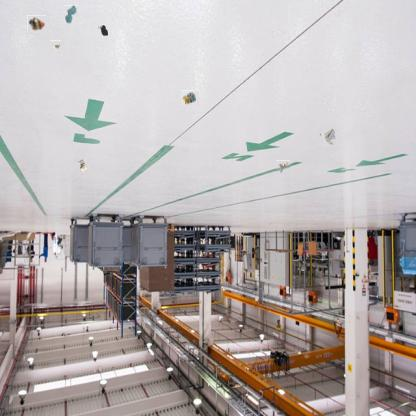dirty: (27, 14, 46, 33), (319, 128, 337, 146), (181, 90, 199, 105), (74, 157, 90, 173), (276, 160, 290, 173), (49, 40, 61, 53)
liquid: (64, 5, 78, 24), (98, 24, 108, 36)
